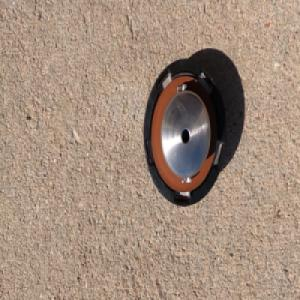FuelCap: (140, 56, 227, 210)
